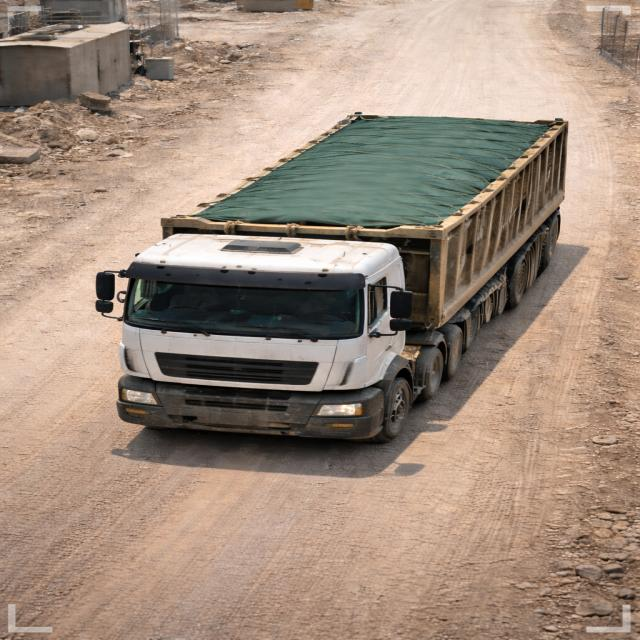trailer: (168, 112, 576, 230)
truck: (88, 107, 597, 438)
